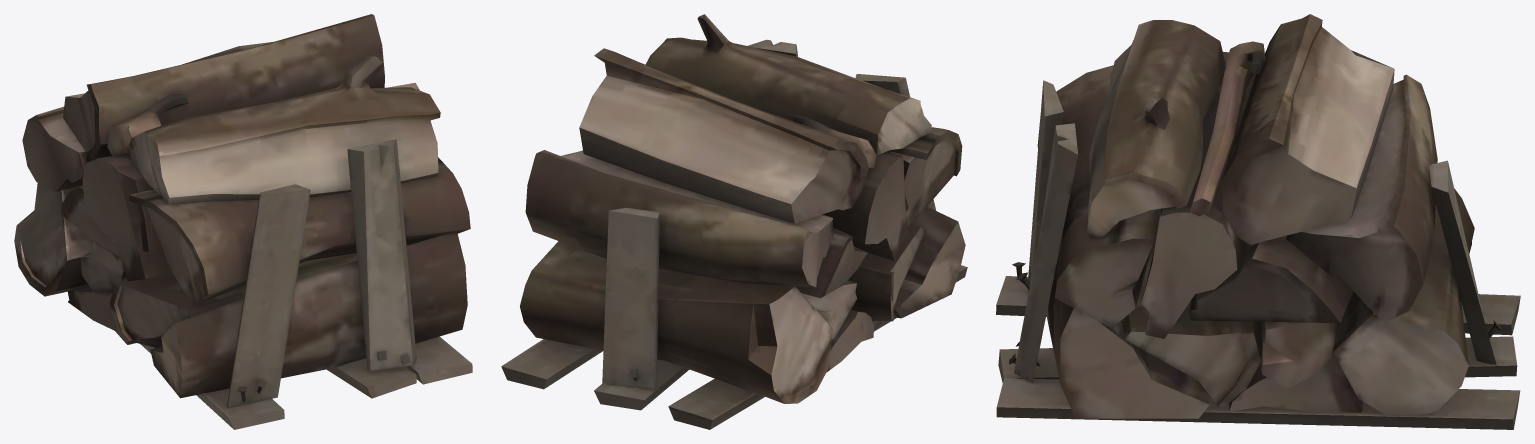
The picture shows the model from 3 angles, left to right: view 1: azimuth 30°, elevation 25°; view 2: azimuth 150°, elevation 25°; view 3: azimuth 270°, elevation 25°; orthographic projection. The views are drawn at different scales.
Parts seen in each view (by area): view 1: body0_model0_lod0_mesh0; view 2: body0_model0_lod0_mesh0; view 3: body0_model0_lod0_mesh0.
Part boxes in pixels (left/top/right/bottom): body0_model0_lod0_mesh0: left=14, top=14, right=472, bottom=429; body0_model0_lod0_mesh0: left=501, top=14, right=967, bottom=429; body0_model0_lod0_mesh0: left=996, top=14, right=1520, bottom=429.
Bounding box in the file's own units: 35.83 × 30.24 × 46.72.
Materials: 1 (1 with a texture image).
